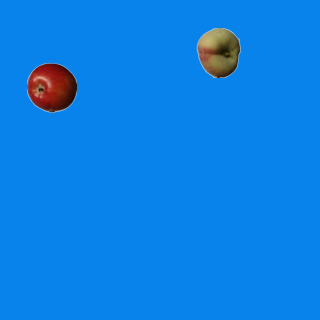Apple Braeburn: (26, 62, 76, 112)
Peach Flat: (193, 27, 243, 77)
